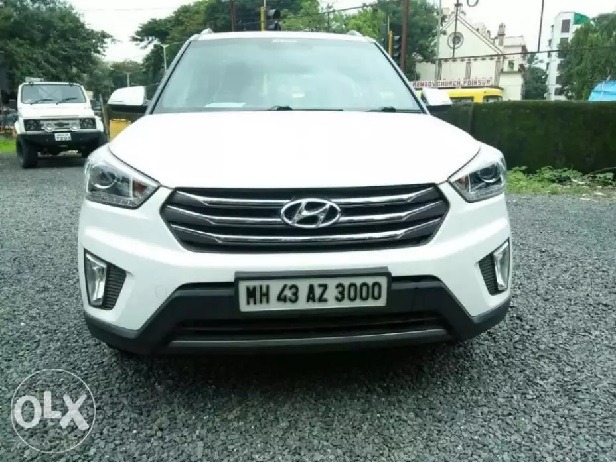licenseplate: (232, 269, 394, 311)
